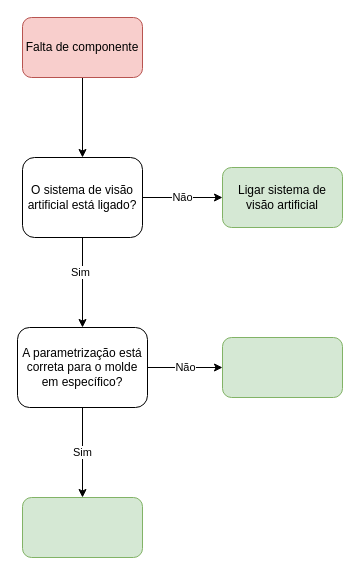
The diagram is 360 pixels wide and 575 high, and some of its shapes have lost their labels. Here are the shapes that lost their labels. From the top down, the centre of each, then its label:
At point (282, 367): "Rever parametrização".
At point (82, 527): "Verificar comunicação entre sistema de visão e controlador da máquina (PLC)".
